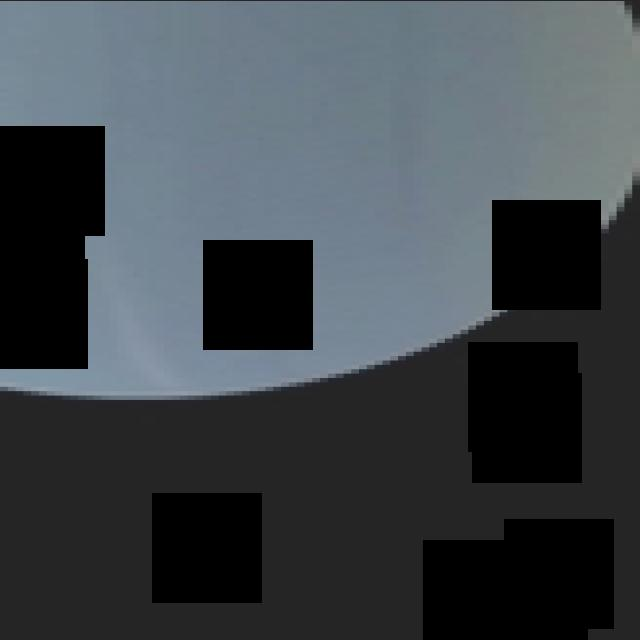Uranus: (0, 0, 640, 399)
